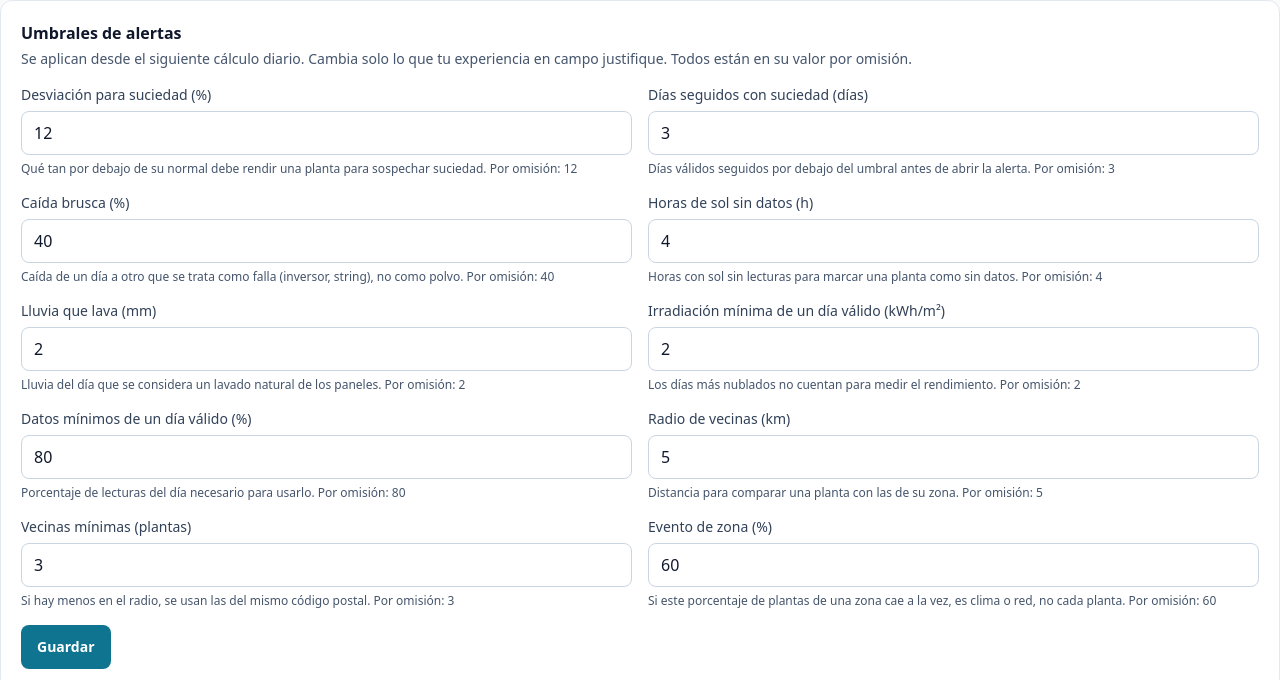
Test: umbrales › guarda solo lo que cambió y marca lo personalizado
The image size is (1280, 680).
Expected: the text "Todos están en su valor por omisión" is shown, [671,49,912,68]
Replace the text in the field labelled "Horas de sol sin datos (h)" with "6" at (954, 241), box [648,219,1259,263]
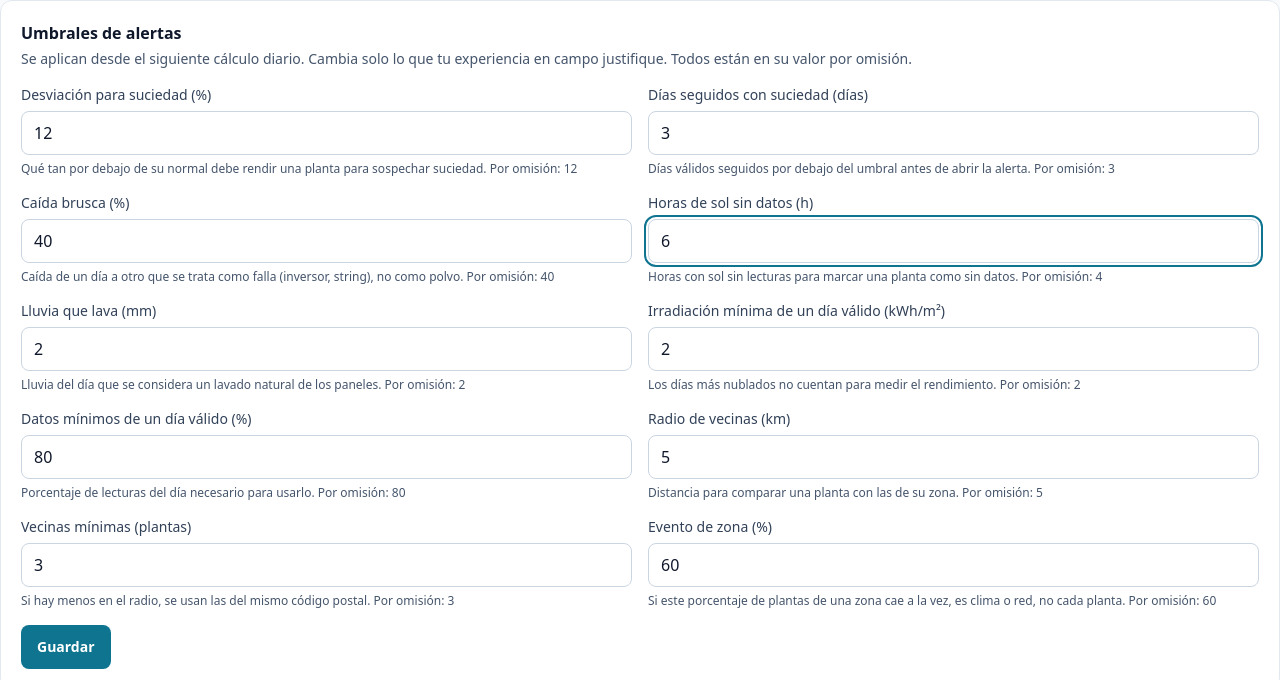
Click the button "Guardar" at (66, 647), box [21,625,110,669]
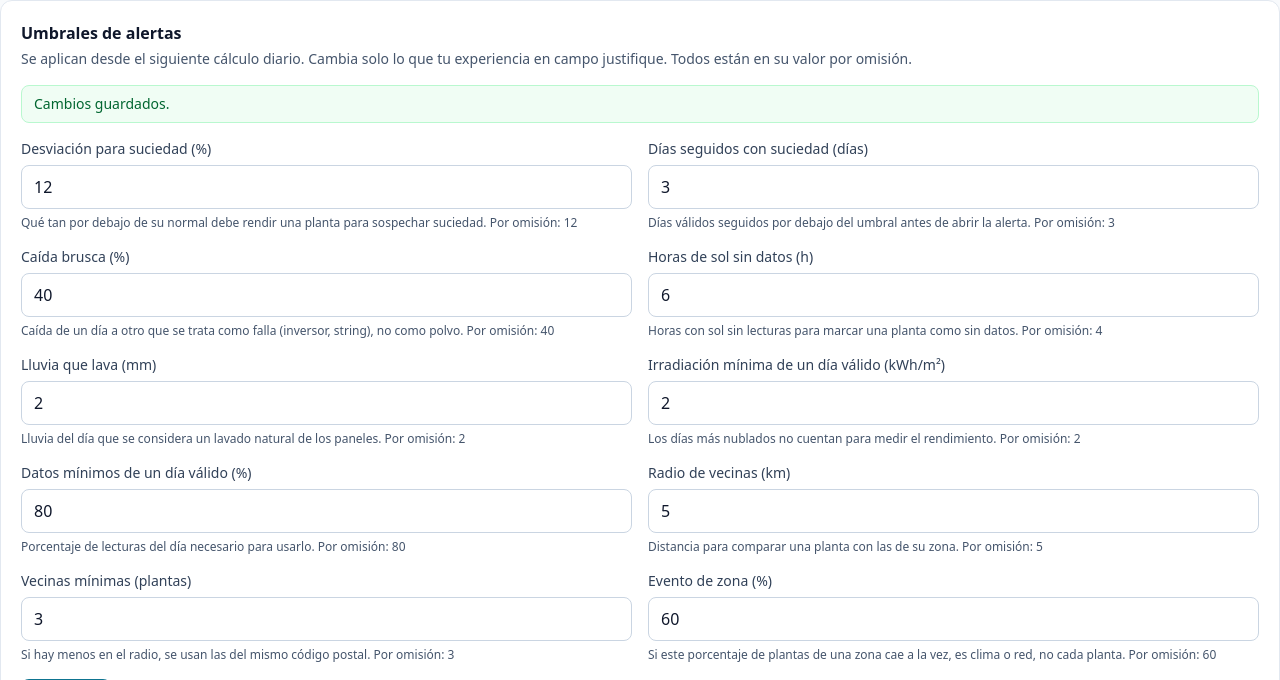
Expected: the text "Cambios guardados." is shown, [21,85,1259,123]
